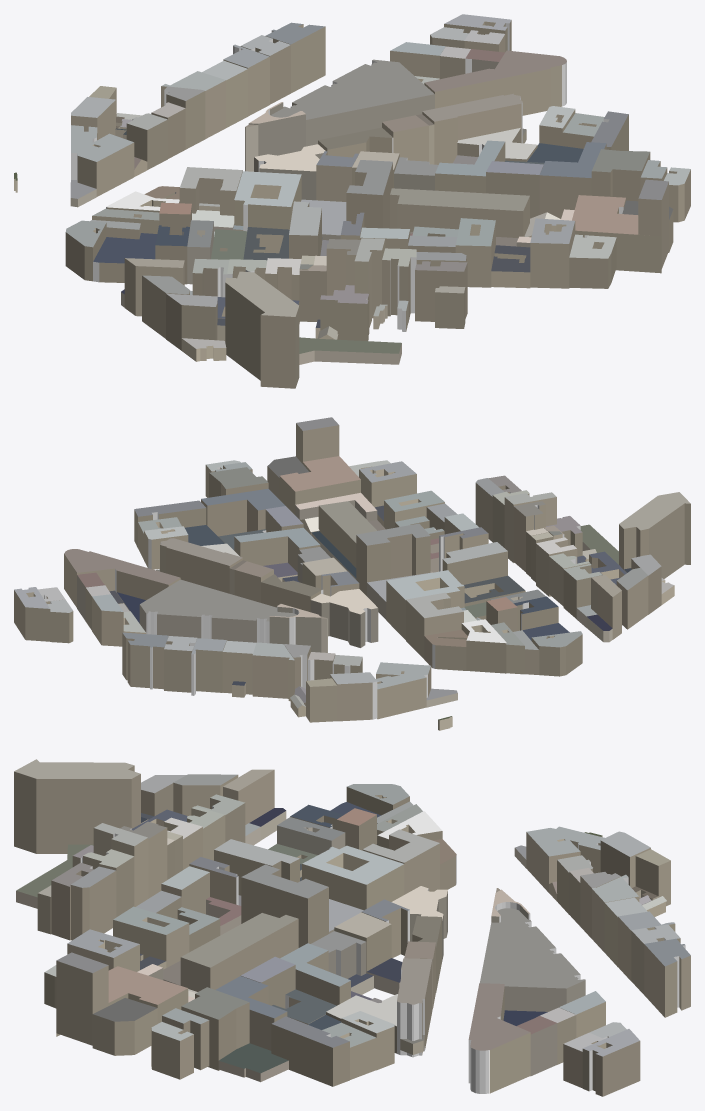
3 renders of one model, top to bottom at view 1: azimuth 30°, elevation 25°; view 2: azimuth 150°, elevation 25°; view 3: azimuth 270°, elevation 25°, orthographic. The views are drawn at different scales.
Visible parts, largest first — view 1: tuile; view 2: tuile; view 3: tuile.
Boxes of the visible parts, x1=… form: tuile: x1=14, y1=14, x2=690, y2=388; tuile: x1=14, y1=417, x2=690, y2=730; tuile: x1=14, y1=759, x2=690, y2=1096.
Size of the model in its own units: 264 by 38.36 by 271.
